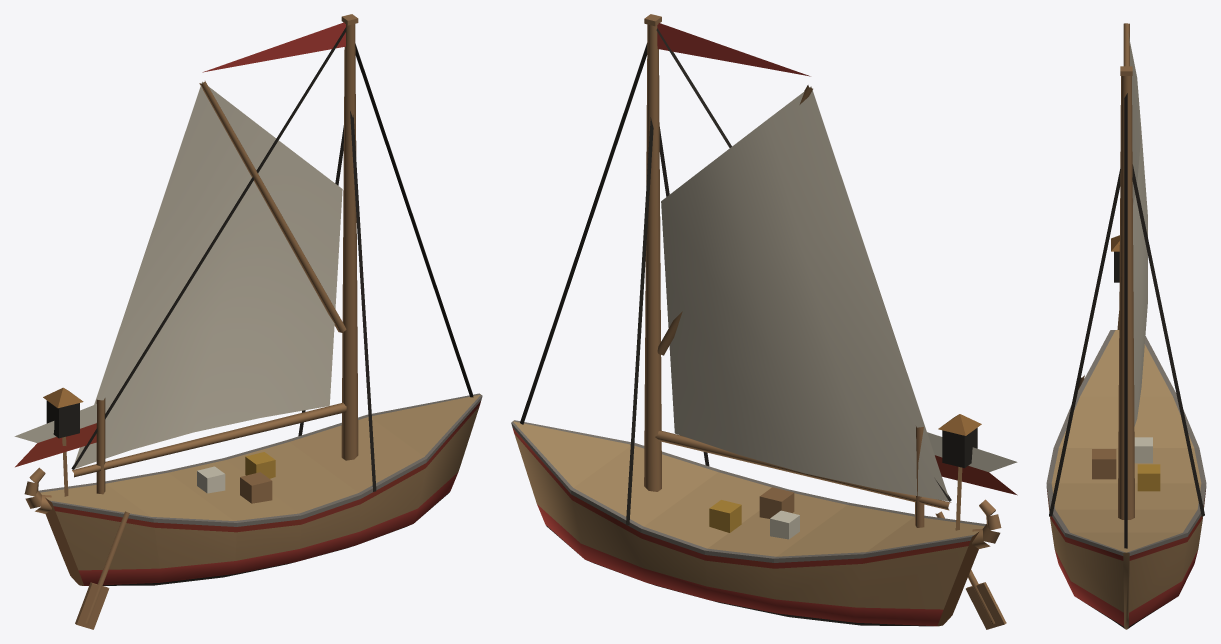
File: hull_other_sprit_skiff.glb
3 views of the same model, side by side, from view 1: azimuth 30°, elevation 25°; view 2: azimuth 150°, elevation 25°; view 3: azimuth 270°, elevation 25° (orthographic). The views are drawn at different scales.
Visible parts, largest first — view 1: sail_main, hull, mast, boom_spar, deck, flag, rigging, gaff, stern_lantern_glass; view 2: sail_main, hull, mast, deck, flag, rigging, boom_spar, stern_lantern_glass; view 3: hull, mast, rigging, sail_main, deck, gaff.
Boxes of the visible parts, left/top/right/bottom form: sail_main: left=74, top=81, right=342, bottom=468; hull: left=24, top=393, right=482, bottom=585; mast: left=96, top=14, right=358, bottom=494; boom_spar: left=71, top=27, right=346, bottom=477; deck: left=43, top=387, right=275, bottom=629; flag: left=14, top=22, right=345, bottom=467; rigging: left=298, top=43, right=473, bottom=491; gaff: left=199, top=81, right=346, bottom=332; stern_lantern_glass: left=46, top=400, right=79, bottom=438; sail_main: left=661, top=86, right=948, bottom=501; hull: left=511, top=420, right=1001, bottom=626; mast: left=644, top=14, right=924, bottom=527; deck: left=709, top=414, right=1006, bottom=629; flag: left=657, top=23, right=1017, bottom=495; rigging: left=520, top=43, right=709, bottom=525; boom_spar: left=655, top=28, right=951, bottom=510; stern_lantern_glass: left=942, top=427, right=977, bottom=468; hull: left=1046, top=311, right=1206, bottom=629; mast: left=1118, top=66, right=1134, bottom=519; rigging: left=1049, top=93, right=1204, bottom=548; sail_main: left=1128, top=34, right=1147, bottom=426; deck: left=1078, top=235, right=1160, bottom=491; gaff: left=1123, top=23, right=1129, bottom=66.
Bounding box in the file's own units: 5.37 × 5.71 × 1.55.
